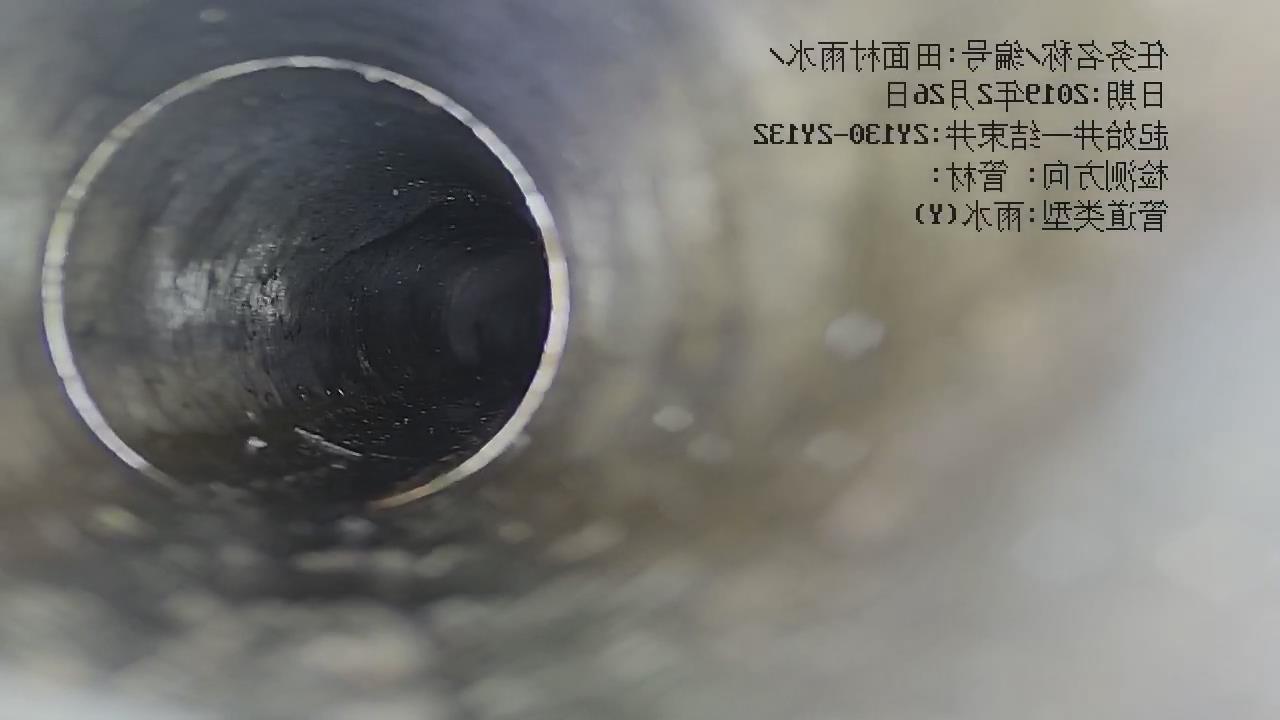BX: (270, 179, 453, 310)
CKTJ: (41, 55, 571, 506)
